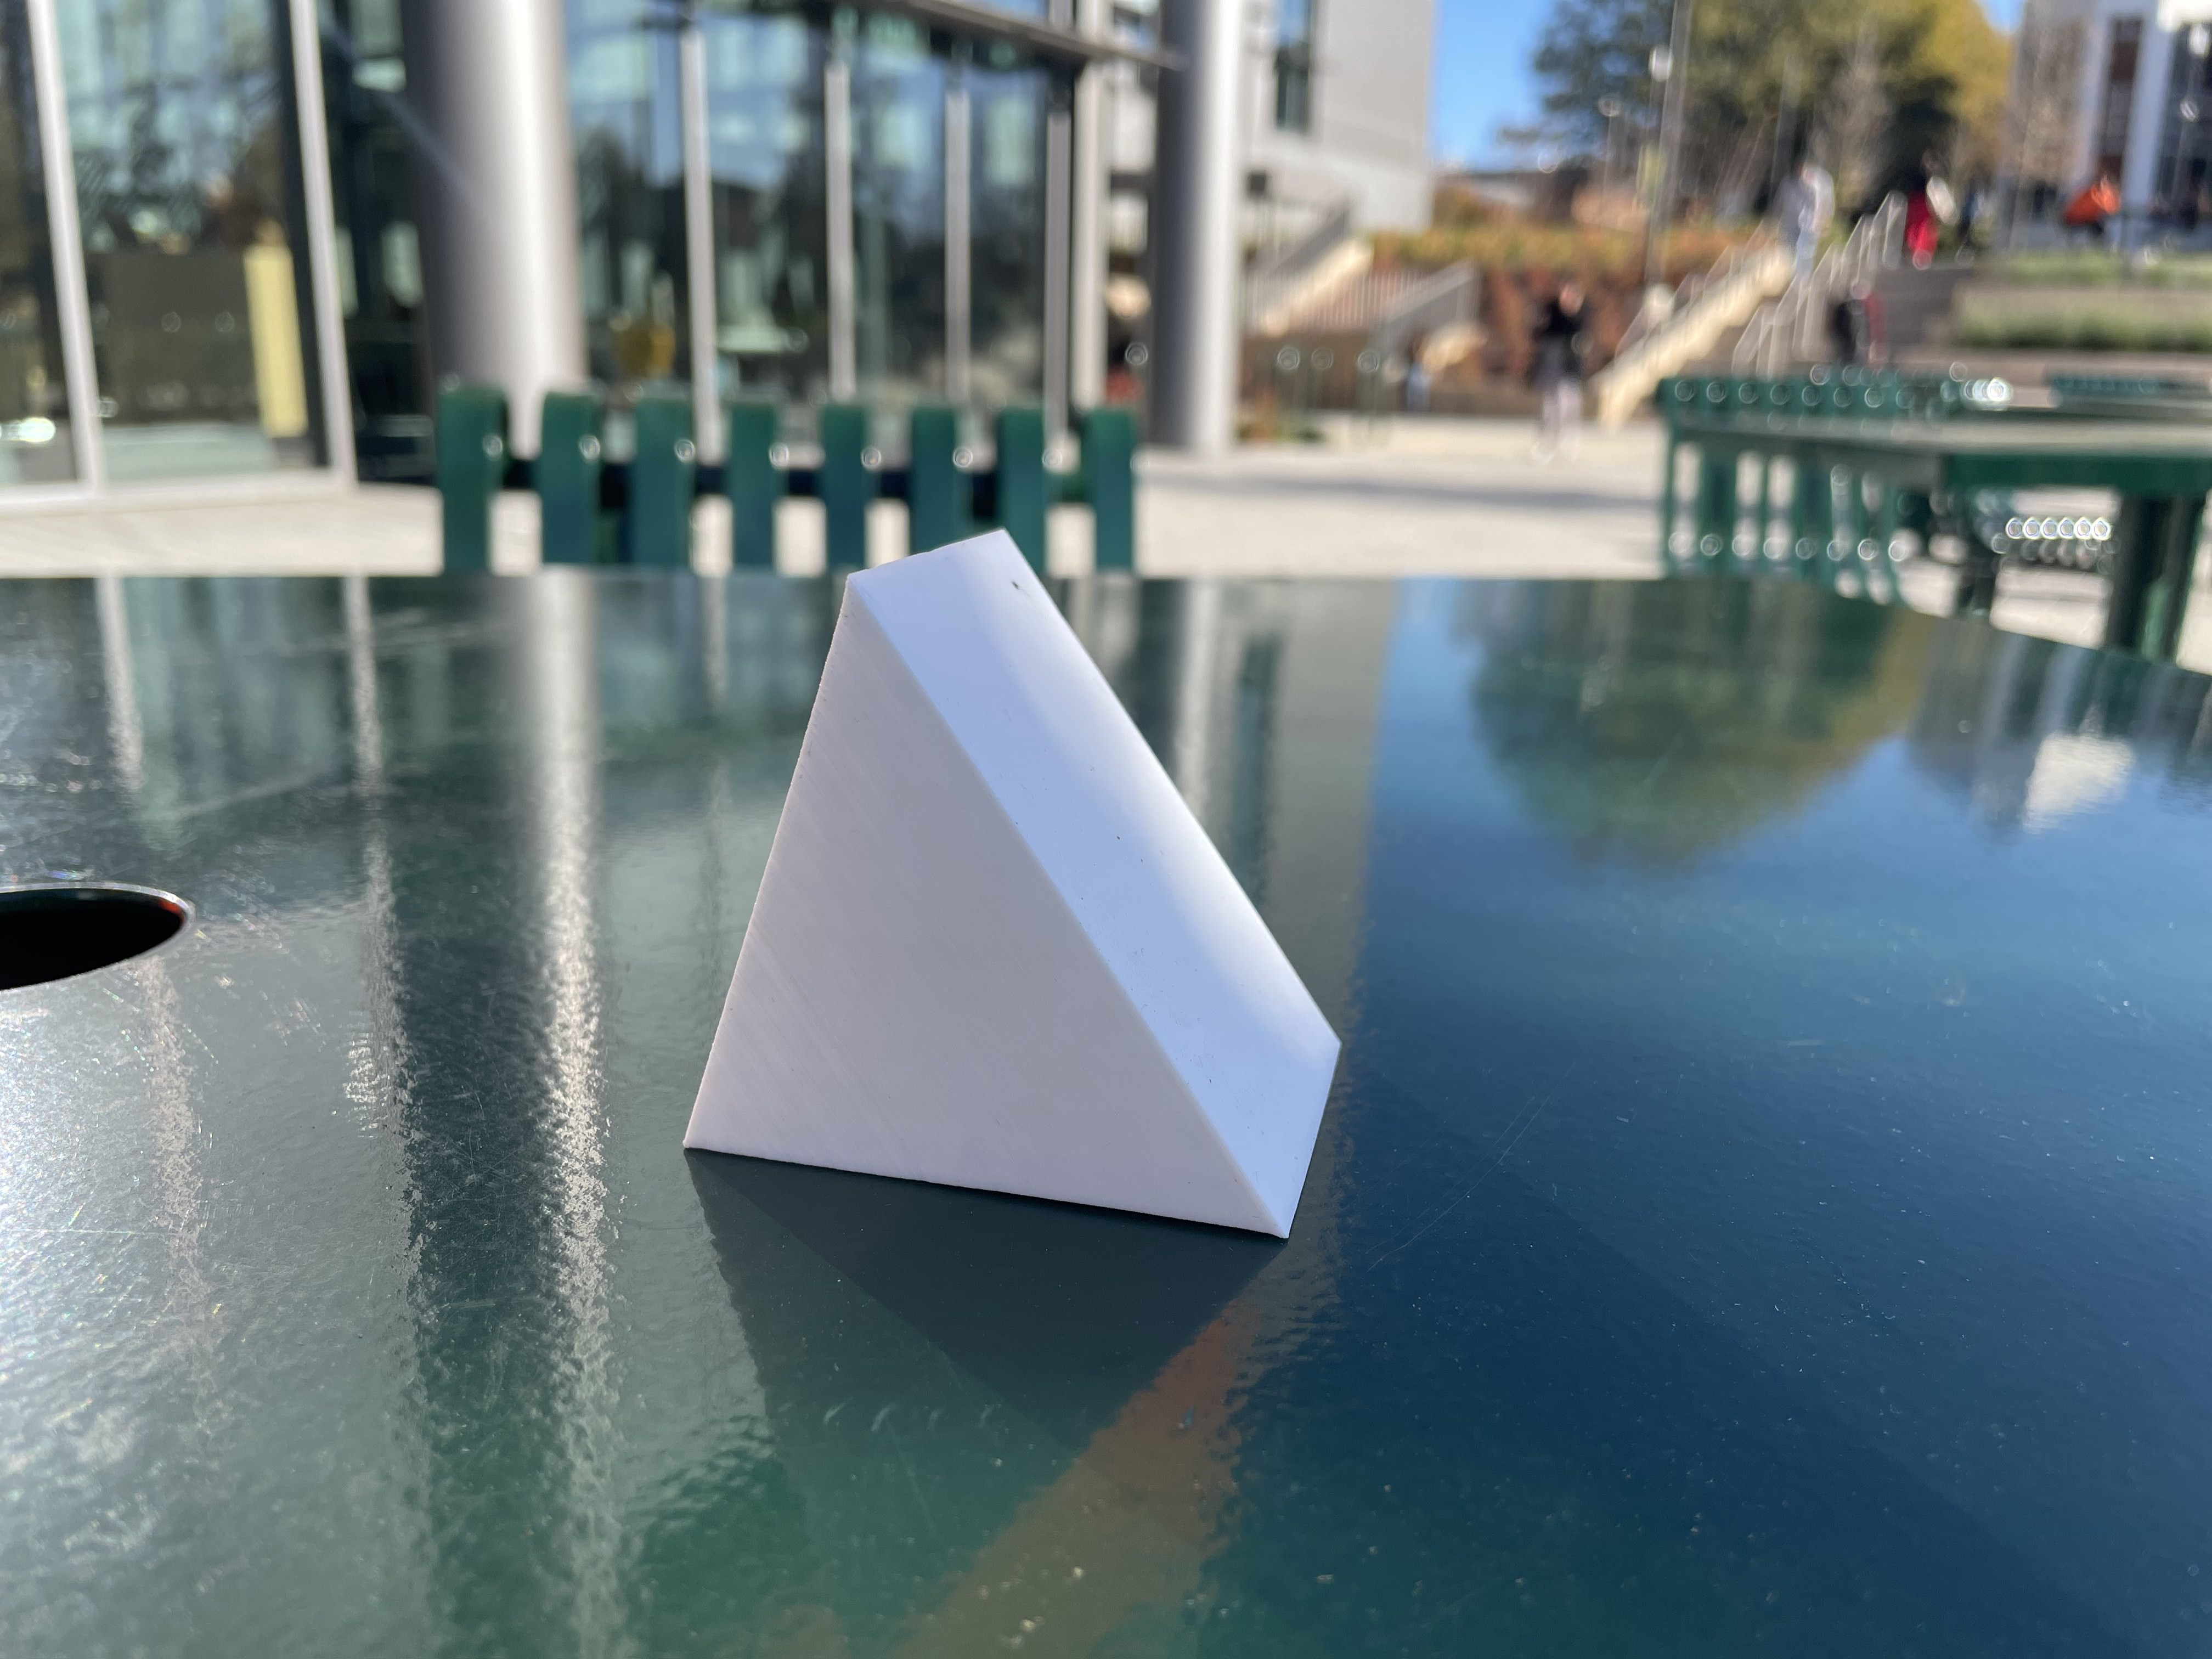payload2: (664, 497, 1407, 1323)
